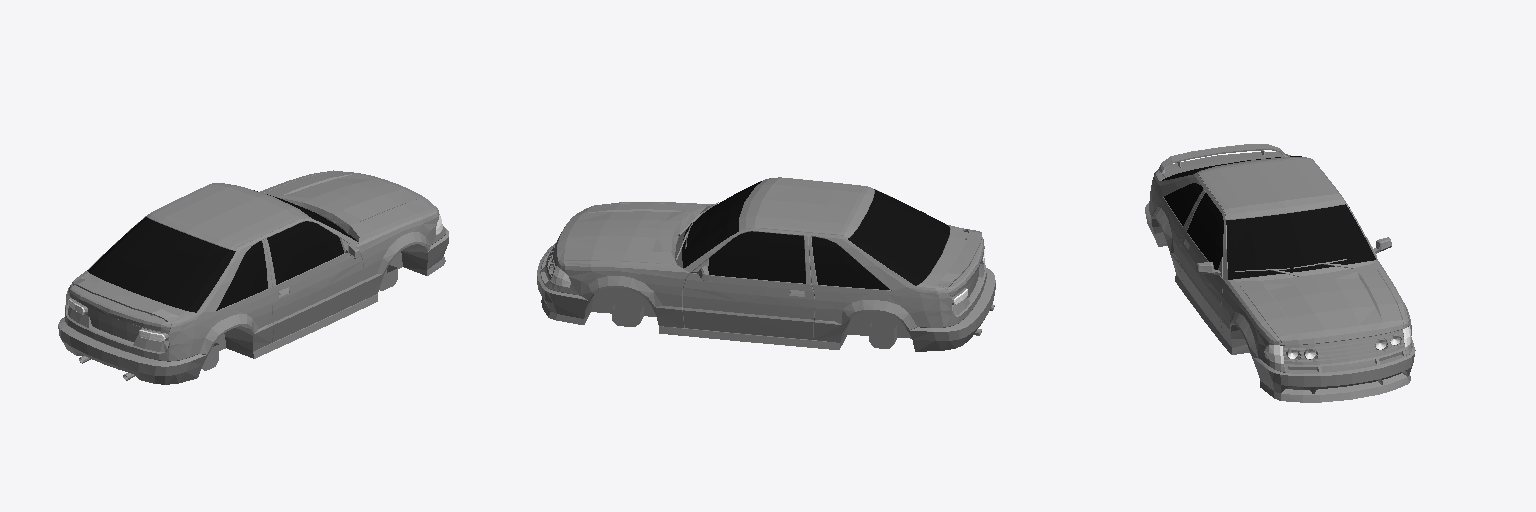
The model's file is CoupeBlue.obj.
3 renders of one model, left to right at view 1: azimuth 30°, elevation 25°; view 2: azimuth 150°, elevation 25°; view 3: azimuth 270°, elevation 25°, orthographic.
Parts seen in each view (by area): view 1: Coupe_Body_Mesh.005; view 2: Coupe_Body_Mesh.005; view 3: Coupe_Body_Mesh.005.
Part boxes in pixels (x1,y1,x2,y2): Coupe_Body_Mesh.005: (58, 170, 448, 384); Coupe_Body_Mesh.005: (537, 177, 995, 351); Coupe_Body_Mesh.005: (1145, 144, 1415, 402).
Size of the model in its own units: 4.73 by 1.31 by 2.82.